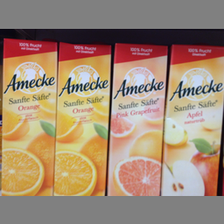juice: (105, 43, 170, 195), (161, 43, 224, 195), (1, 36, 56, 196), (53, 41, 110, 195)
